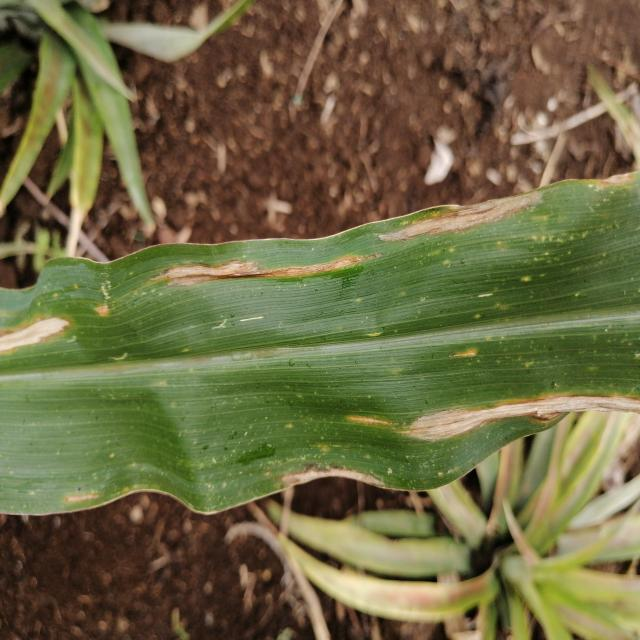Corn_Leaf_Blight: (0, 166, 640, 508)
